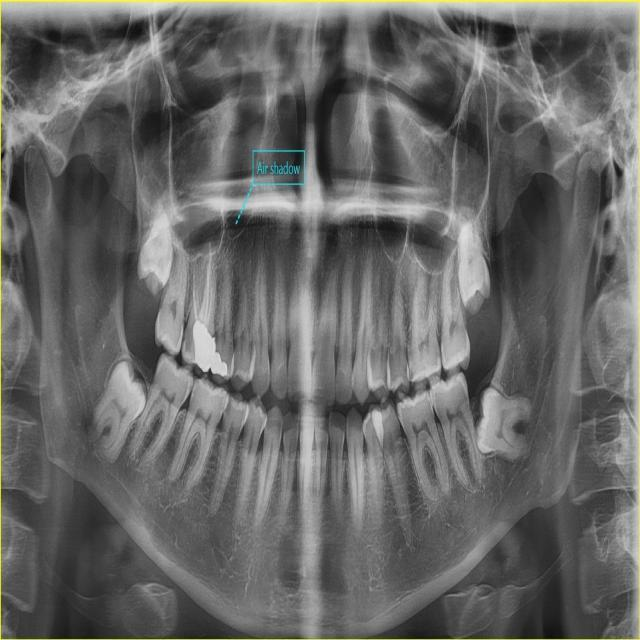74: (197, 240, 216, 323), (205, 264, 214, 326), (203, 265, 211, 326), (191, 264, 198, 322)
NucleOSS Implant: (192, 321, 218, 373), (206, 350, 231, 381)
Sterngold Implant: (182, 323, 192, 356), (432, 343, 444, 366), (222, 395, 234, 415), (177, 318, 184, 343), (406, 359, 414, 380), (401, 362, 408, 384), (191, 383, 199, 400), (441, 344, 447, 363), (431, 395, 439, 409), (396, 406, 403, 422), (187, 381, 193, 396)
